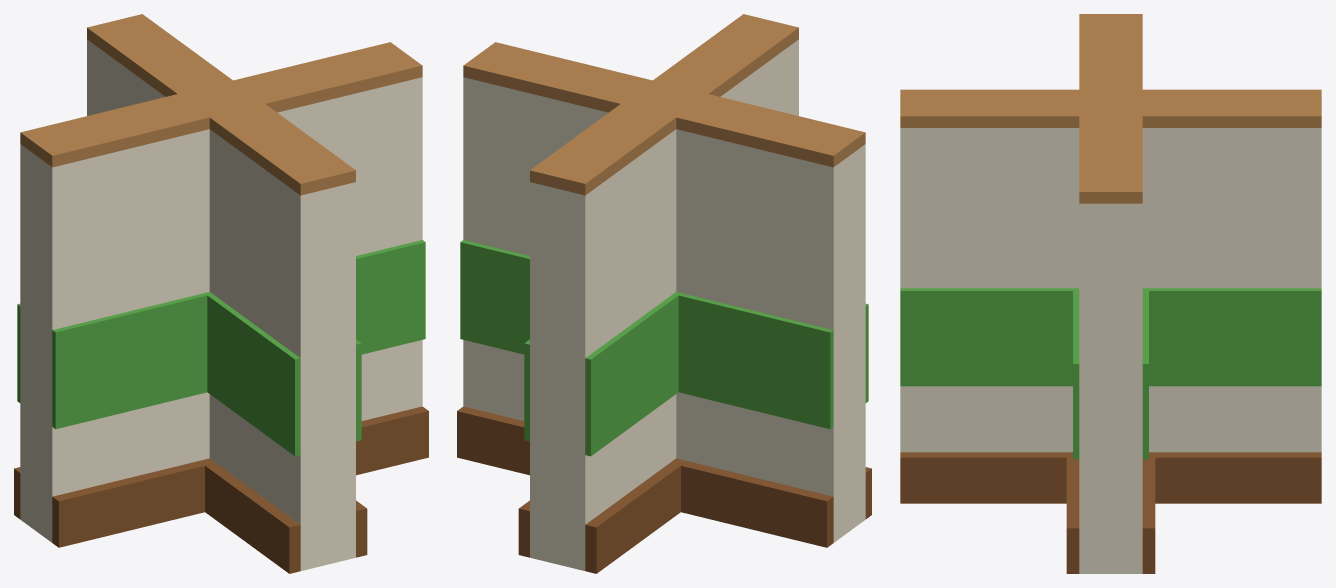
The model's file is partition-full-cross.glb.
3 views of the same model, side by side, from view 1: azimuth 30°, elevation 25°; view 2: azimuth 150°, elevation 25°; view 3: azimuth 270°, elevation 25° (orthographic).
Visible parts, largest first — view 1: partition-full-cross; view 2: partition-full-cross; view 3: partition-full-cross.
Part boxes in pixels (box(x1,y1,x2,y2)): partition-full-cross: box(14, 14, 428, 573); partition-full-cross: box(457, 14, 871, 573); partition-full-cross: box(900, 14, 1321, 573).
Bounding box in the file's own units: 1 × 1 × 1.
Materials: 1 (1 with a texture image).
